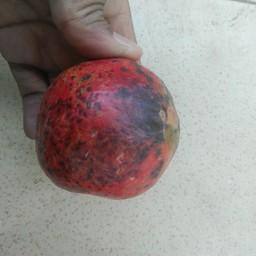Bad_pomegranate: (36, 57, 181, 200)
